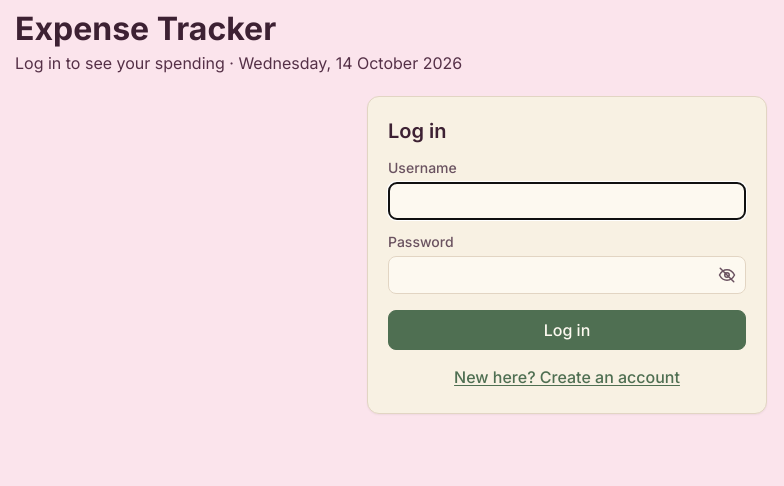
a failed log in hides the password again
Type "alice" into the field labelled "Username" at (567, 201), box [388,182,746,220]
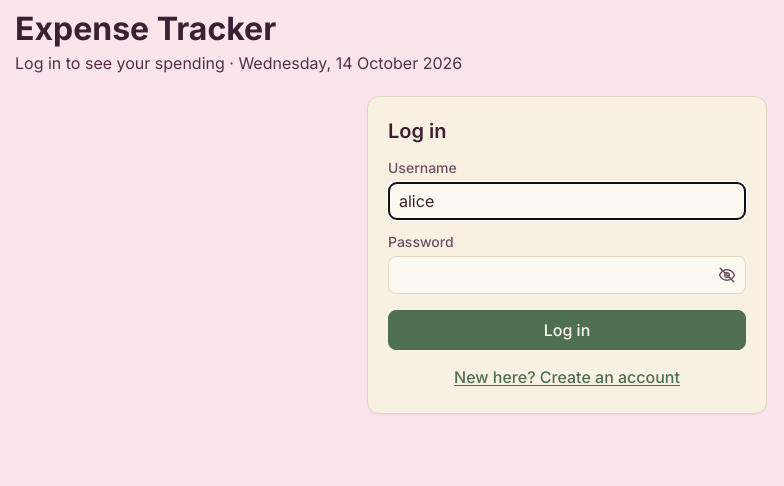
Type "a good password" into the password field labelled "Password" at (567, 275), box [388,256,746,294]
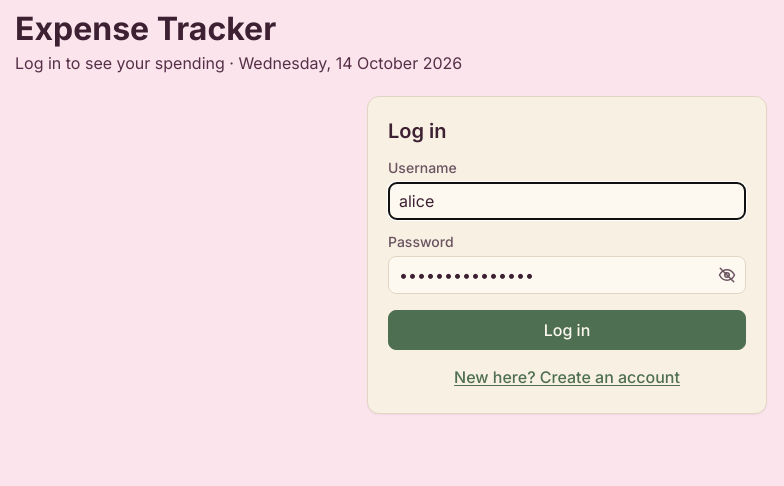
Click the button named "Show password" at (727, 275), box [711,259,743,291]
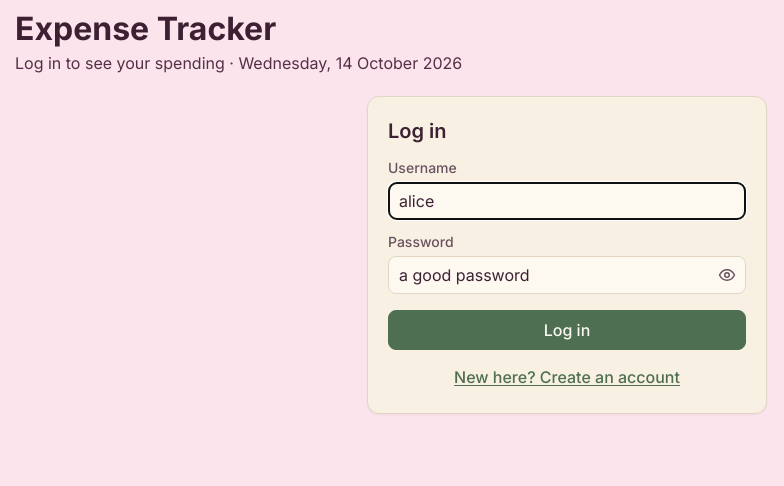
Click the button "Log in" at (567, 330), box [388,310,746,350]
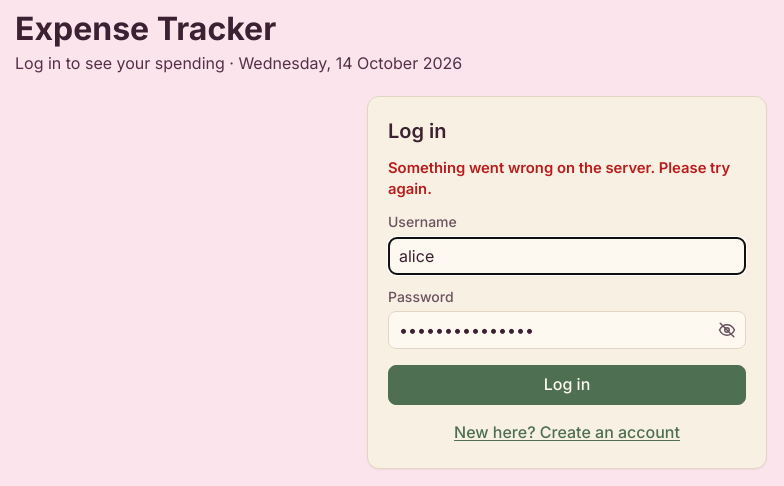
expect the text "Something went wrong on the server. Please try again." is shown: met, box [388,158,746,200]
expect the password field labelled "Password" hides its text: met, box [388,311,746,349]
